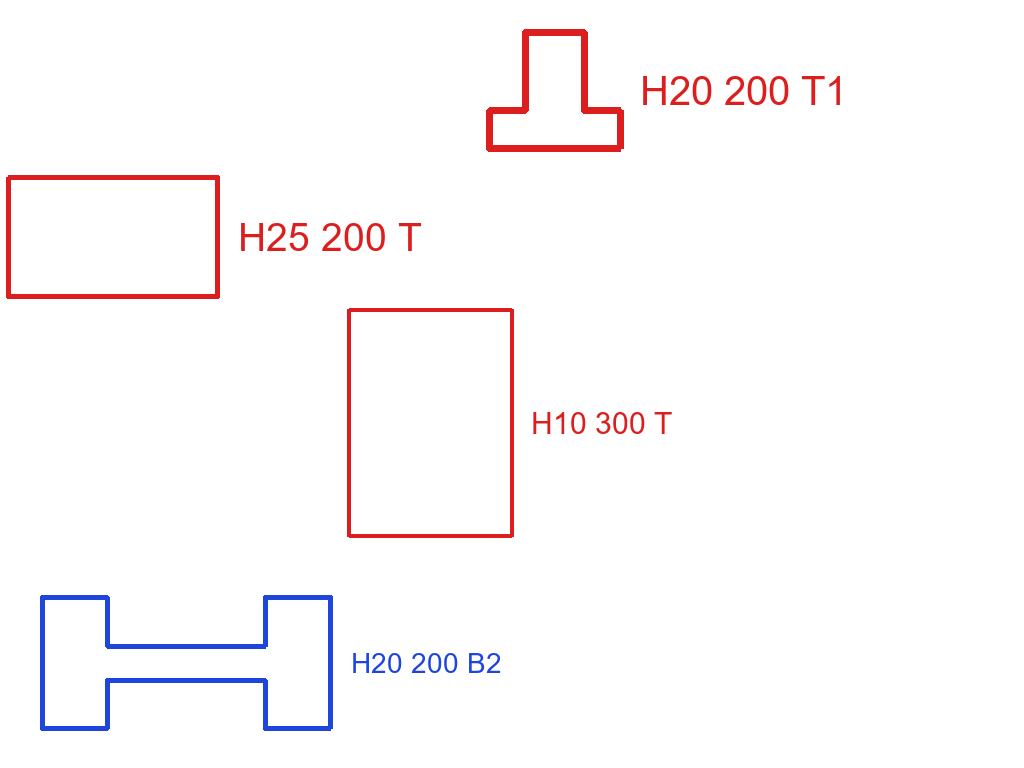shape: (38, 593, 335, 733), (346, 306, 515, 541), (4, 173, 222, 301), (484, 27, 626, 154)
text: (638, 74, 849, 107), (236, 221, 424, 253), (529, 410, 674, 436), (349, 651, 504, 675)
